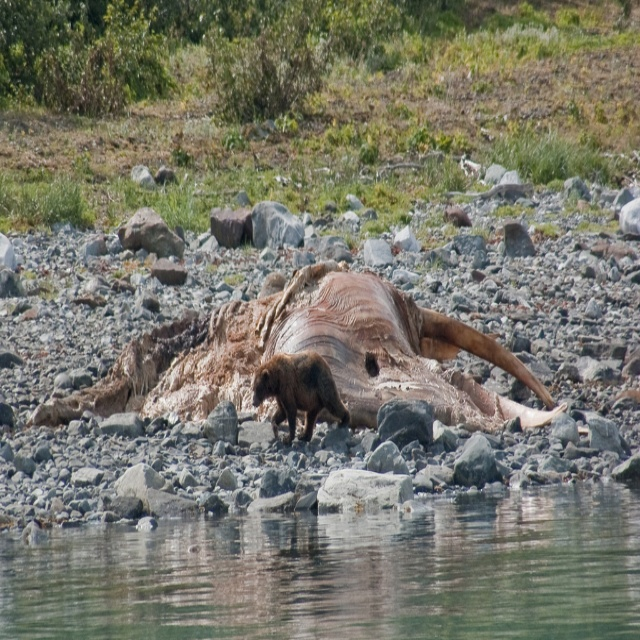Brown bear: (252, 347, 351, 447)
